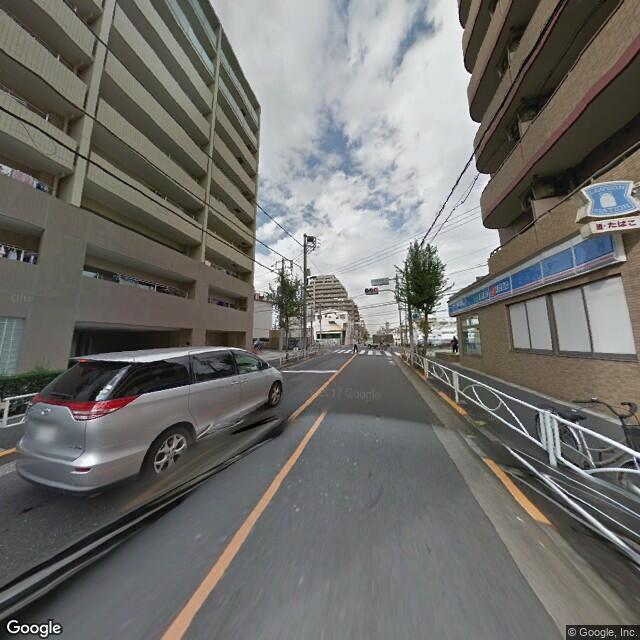lawson: (445, 230, 614, 322), (582, 172, 637, 219)
